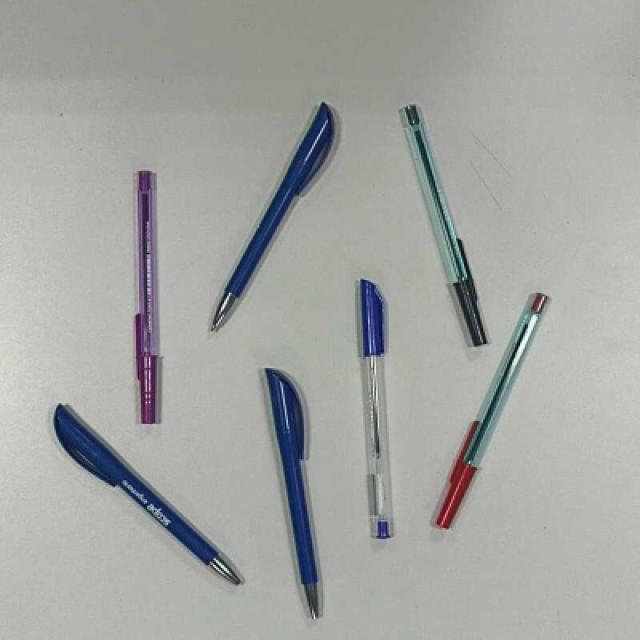caneta: (38, 403, 244, 601), (206, 102, 351, 340), (430, 290, 549, 532), (402, 102, 491, 349), (265, 363, 337, 620), (361, 277, 392, 538), (136, 171, 158, 423)
